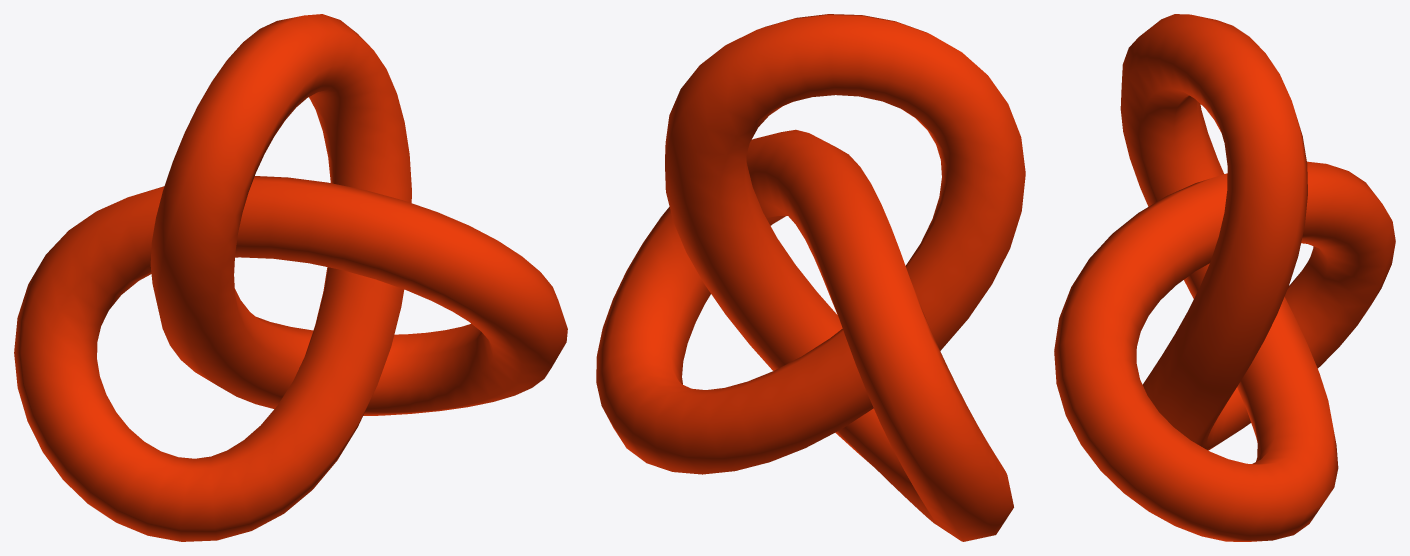
Rendered from KnotEvil.fbx.
3 renders of one model, left to right at view 1: azimuth 30°, elevation 25°; view 2: azimuth 150°, elevation 25°; view 3: azimuth 270°, elevation 25°, orthographic. The views are drawn at different scales.
Parts seen in each view (by area): view 1: TorusKnot; view 2: TorusKnot; view 3: TorusKnot.
Boxes of the visible parts, x1,y1,x2,y2 form: TorusKnot: [14, 14, 567, 541]; TorusKnot: [596, 14, 1025, 541]; TorusKnot: [1054, 14, 1395, 541].
Bounding box in the file's own units: 603 × 624 × 413.
